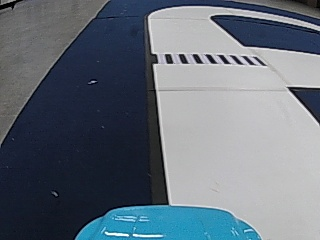CrossWalk: (152, 51, 265, 67)
